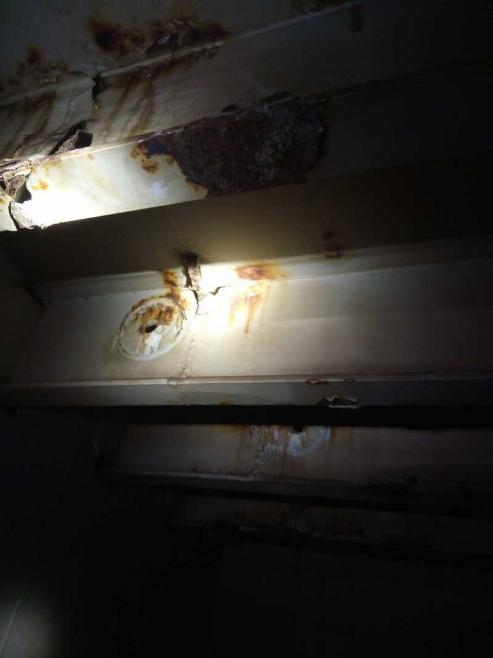corrosion: (82, 16, 233, 69), (13, 91, 96, 154), (126, 268, 190, 332), (107, 80, 166, 145), (0, 169, 58, 233), (228, 292, 275, 335), (16, 48, 70, 80), (131, 148, 173, 186), (228, 266, 296, 287)
